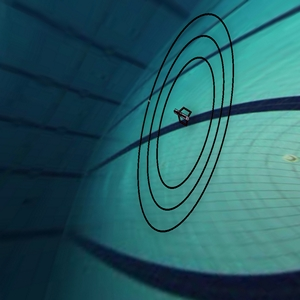circle: (121, 9, 250, 246)
submarine: (163, 97, 199, 134)
